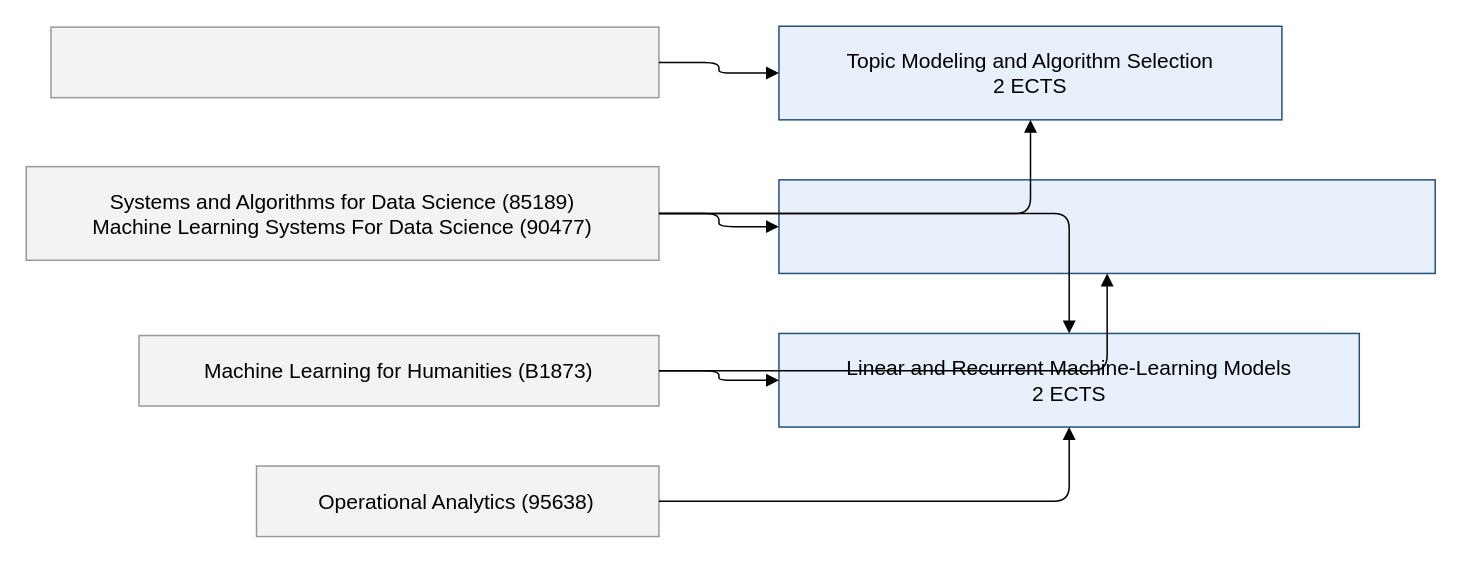
Image size: 1463x564. Some labels were removed from this diagram. The centre of each missing label's shape, as x and y in pixels:
"Machine-Learning Development Tools and Frameworks 2 ECTS" belongs at pixel 1106 225.
"Methods and Models for Data Analytics M (96143)" belongs at pixel 354 62.
